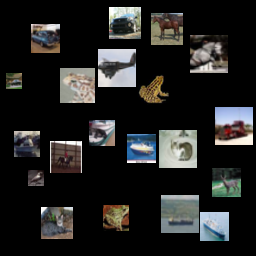airplane: (98, 49, 136, 87)
automobile: (109, 7, 141, 39), (31, 24, 60, 53), (6, 73, 22, 89)
bird: (28, 170, 44, 186)
cat: (159, 130, 197, 168), (41, 207, 73, 239)
deer: (212, 168, 241, 197)
frog: (60, 68, 95, 103), (137, 74, 169, 106), (103, 205, 129, 231)
ship: (161, 195, 199, 233), (127, 134, 156, 163), (200, 212, 229, 241), (14, 131, 40, 157), (89, 120, 115, 146)
